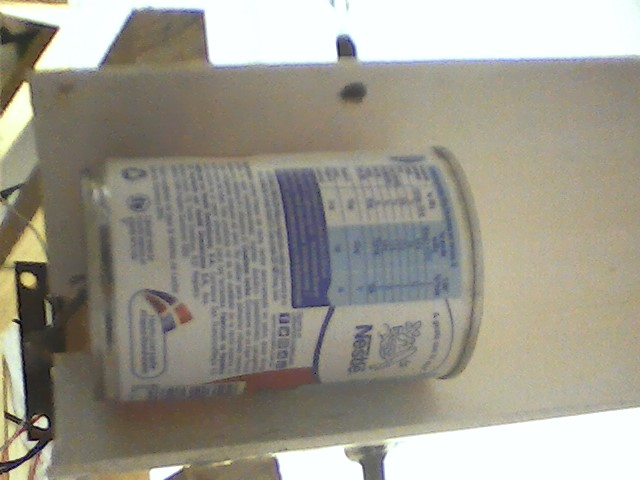lata: (74, 141, 494, 411)
